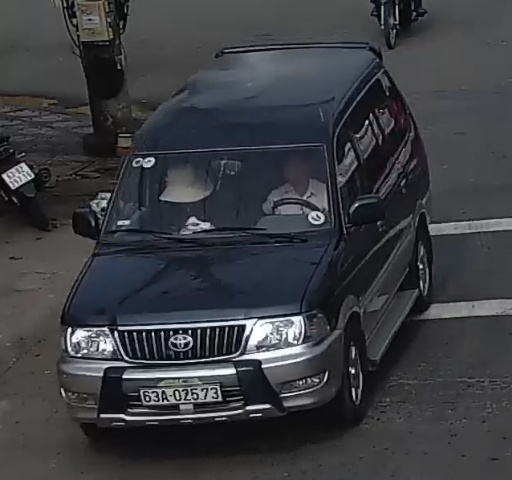vehicle plate: (134, 382, 237, 409)
